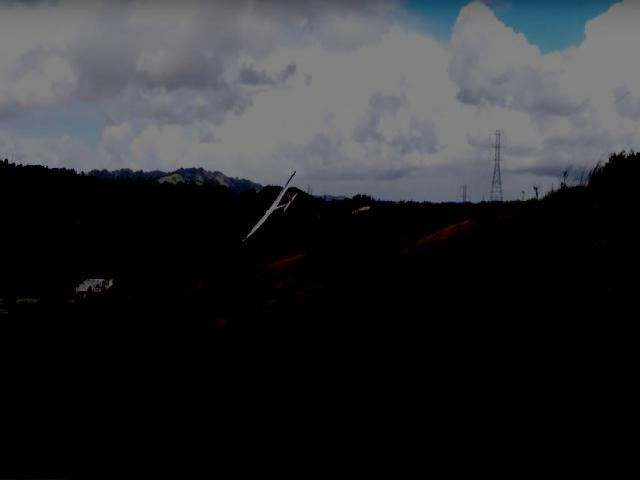iha: (240, 170, 299, 242)
